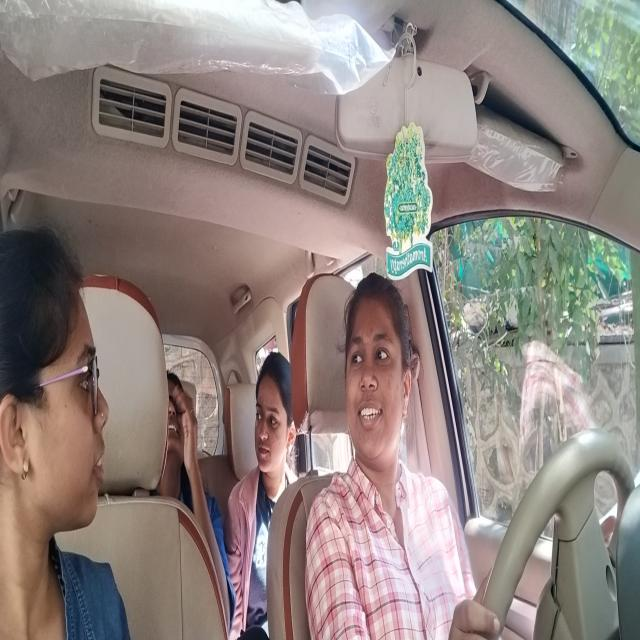LeftRight: (334, 279, 416, 474)
person: (9, 240, 110, 538), (253, 362, 291, 484), (167, 373, 192, 492)
talking: (355, 395, 387, 432), (93, 450, 109, 488)
